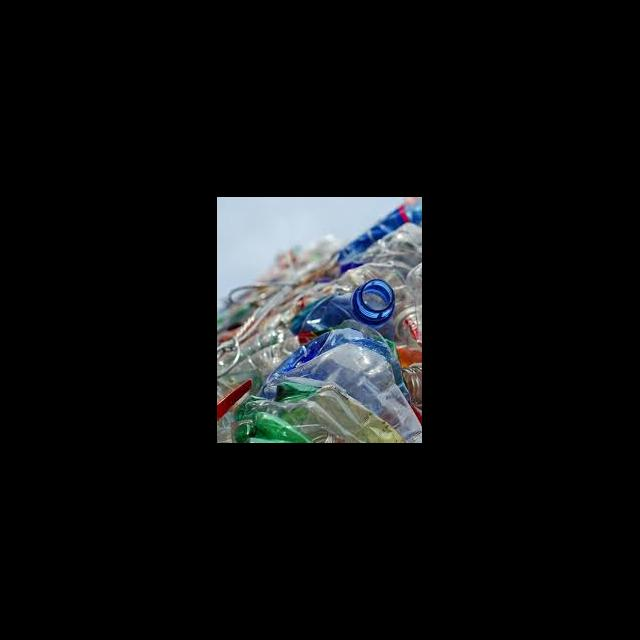plastic: (218, 197, 422, 442), (266, 343, 422, 442), (258, 326, 408, 405), (232, 397, 402, 442), (294, 280, 394, 342), (274, 380, 324, 442), (362, 221, 422, 268), (328, 264, 402, 295), (392, 266, 422, 336), (402, 360, 422, 405)
